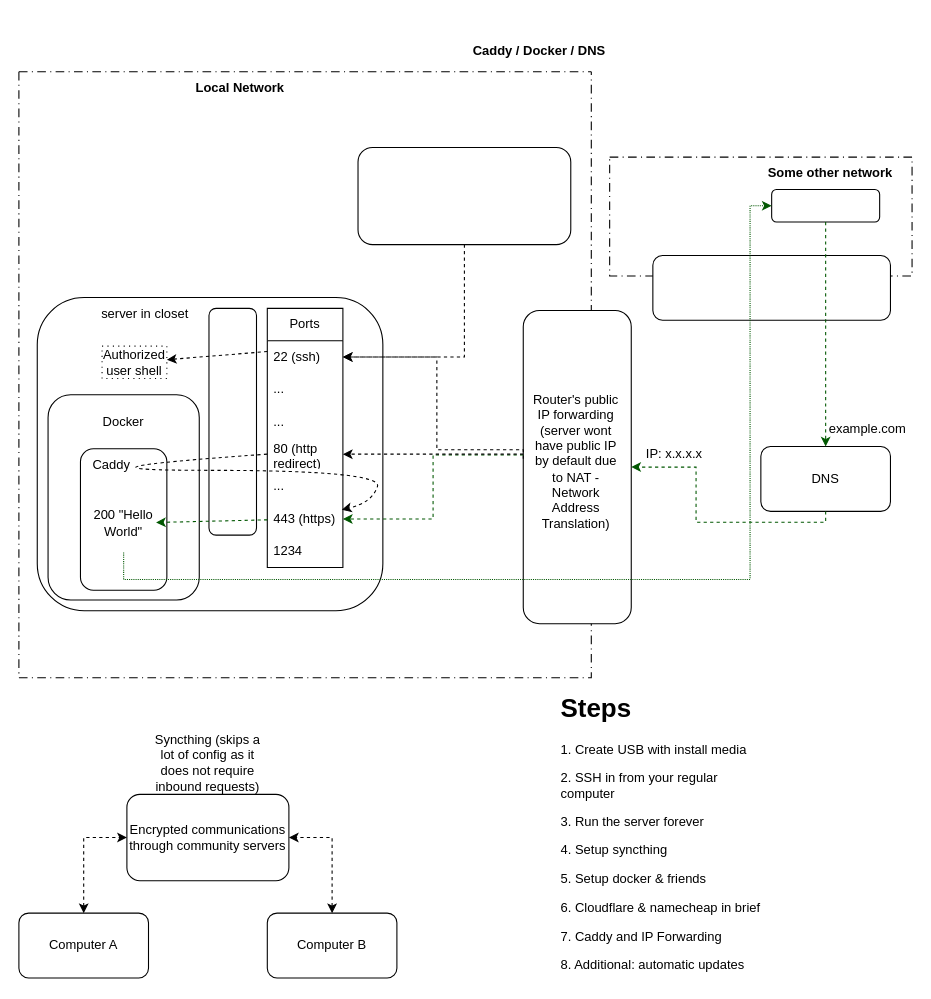
This 931x999 diagram has some shape labels left out. The centre of each missing label's shape, as x and y in pixels:
Dad's Router (remember's his tablet sent the request through NAT): the point at 771,287
Dad's tablet: the point at 825,205
UFW firewall: the point at 232,421
Your regular computer inside network (no public ip): the point at 464,195
